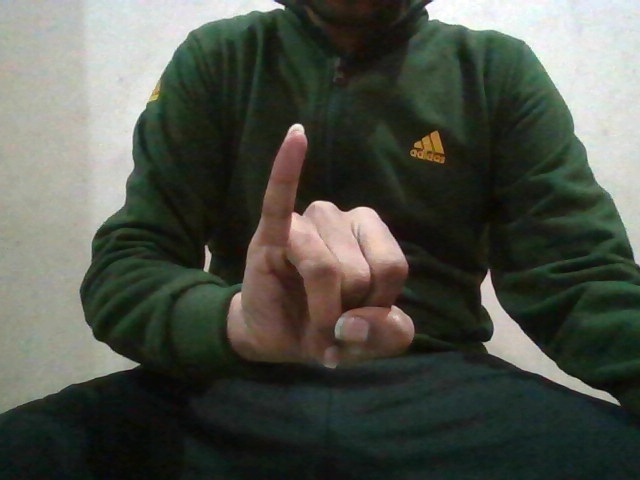I: (241, 119, 419, 371)
